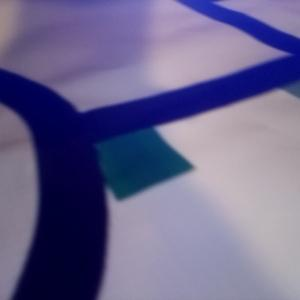bottom_right: (39, 112, 192, 198)
